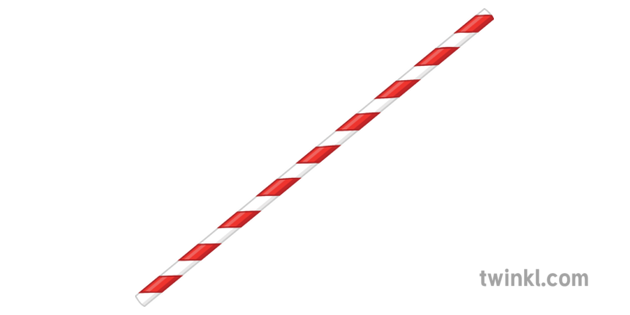Drinking Straw: (132, 6, 497, 309)
